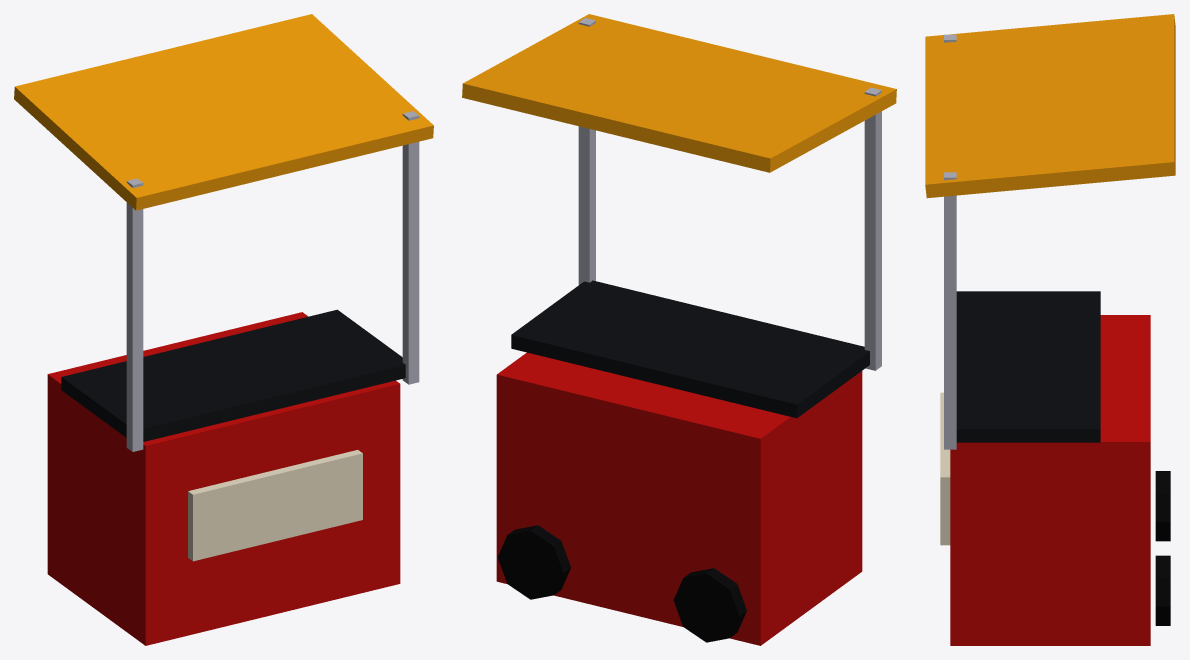
File: hot_dog_stand.obj
The picture shows the model from 3 angles, left to right: view 1: azimuth 30°, elevation 25°; view 2: azimuth 150°, elevation 25°; view 3: azimuth 270°, elevation 25°; orthographic projection. The views are drawn at different scales.
Parts seen in each view (by area): view 1: hot_dog_stand; view 2: hot_dog_stand; view 3: hot_dog_stand.
Part boxes in pixels (x1,y1,x2,y2): hot_dog_stand: [14, 14, 433, 645]; hot_dog_stand: [462, 14, 896, 645]; hot_dog_stand: [925, 14, 1175, 645].
Size of the model in its own units: 1.4 by 2.18 by 1.
